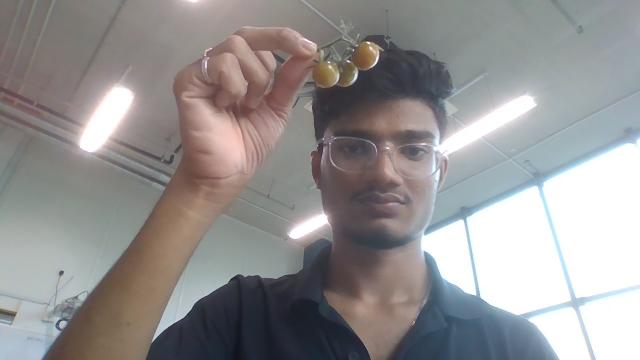Fully Grown: (311, 59, 340, 90), (351, 40, 380, 70), (335, 60, 358, 87)
